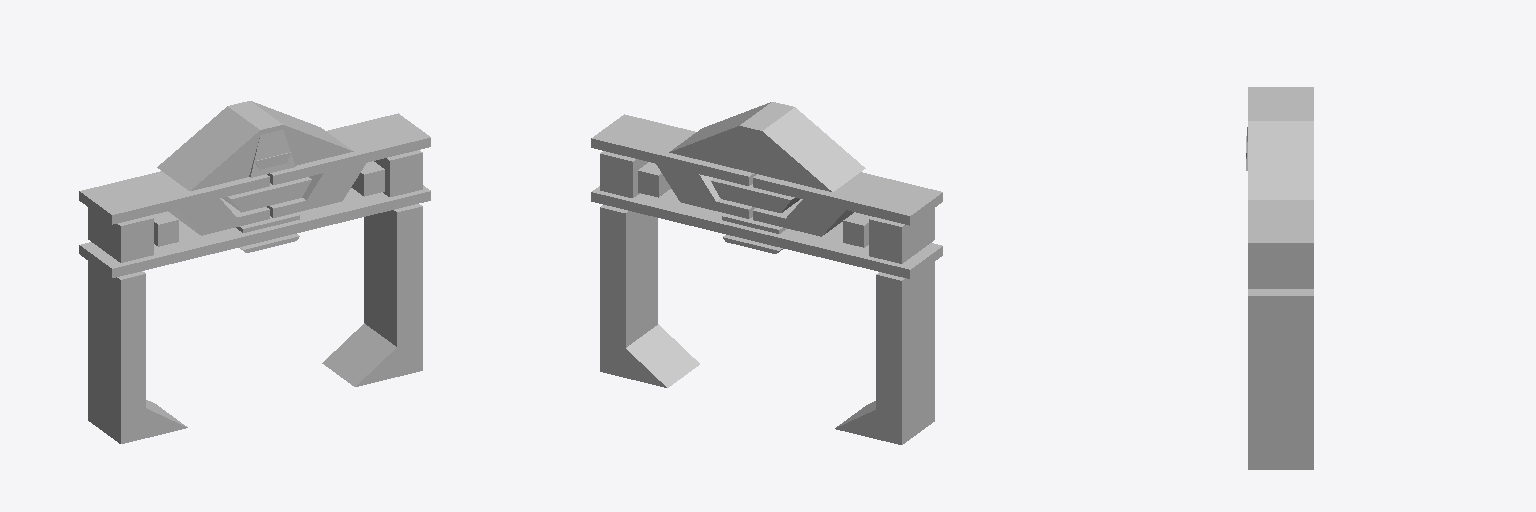
File: recognizer_Large.obj
The picture shows the model from 3 angles: view 1: azimuth 30°, elevation 25°; view 2: azimuth 150°, elevation 25°; view 3: azimuth 270°, elevation 25°; orthographic projection.
Parts seen in each view (by area): view 1: Mesh.001_recognizer; view 2: Mesh.001_recognizer; view 3: Mesh.001_recognizer.
Part boxes in pixels (x1,y1,x2,y2): Mesh.001_recognizer: (79,101,430,443); Mesh.001_recognizer: (591,102,942,444); Mesh.001_recognizer: (1246,87,1313,469).
Size of the model in its own units: 20 by 16.79 by 3.71.